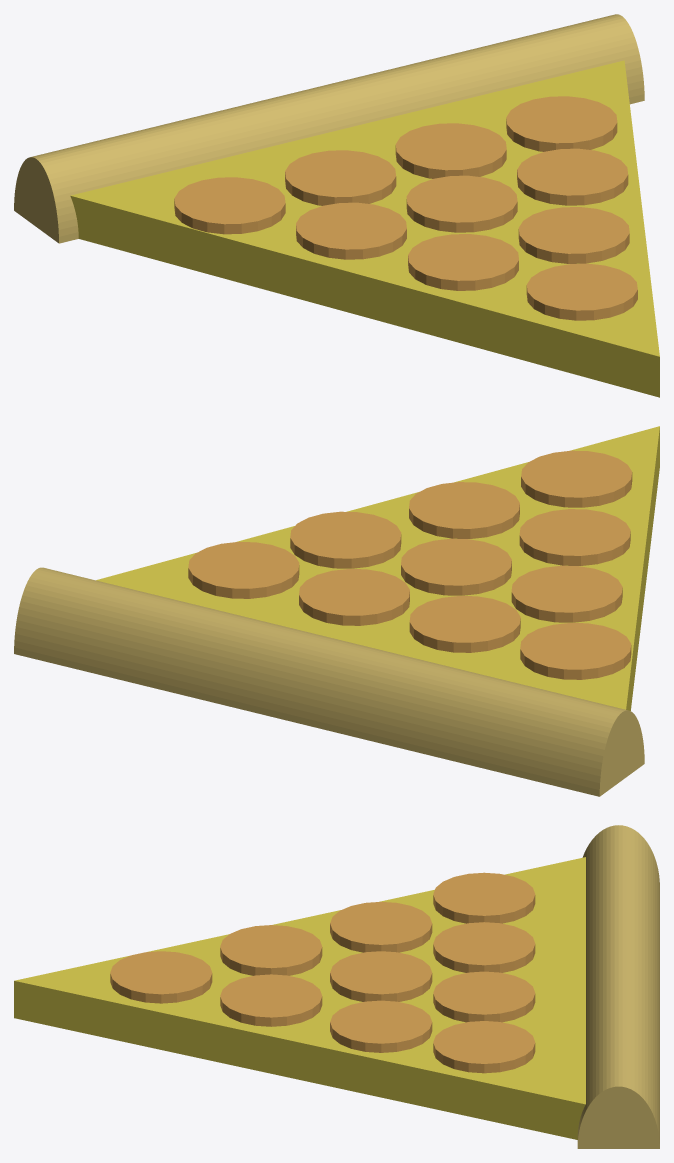
The model's file is Conor Pizza.glb.
3 renders of one model, top to bottom at view 1: azimuth 30°, elevation 25°; view 2: azimuth 150°, elevation 25°; view 3: azimuth 270°, elevation 25°, orthographic. The views are drawn at different scales.
Parts seen in each view (by area): view 1: Mesh_Mesh_head_geo.001_lambert2SG.001; view 2: Mesh_Mesh_head_geo.001_lambert2SG.001; view 3: Mesh_Mesh_head_geo.001_lambert2SG.001.
Part boxes in pixels (<box>): Mesh_Mesh_head_geo.001_lambert2SG.001: <box>14,14,659,397</box>; Mesh_Mesh_head_geo.001_lambert2SG.001: <box>14,426,659,796</box>; Mesh_Mesh_head_geo.001_lambert2SG.001: <box>14,825,659,1148</box>.
Size of the model in its own units: 90 by 10 by 94.
